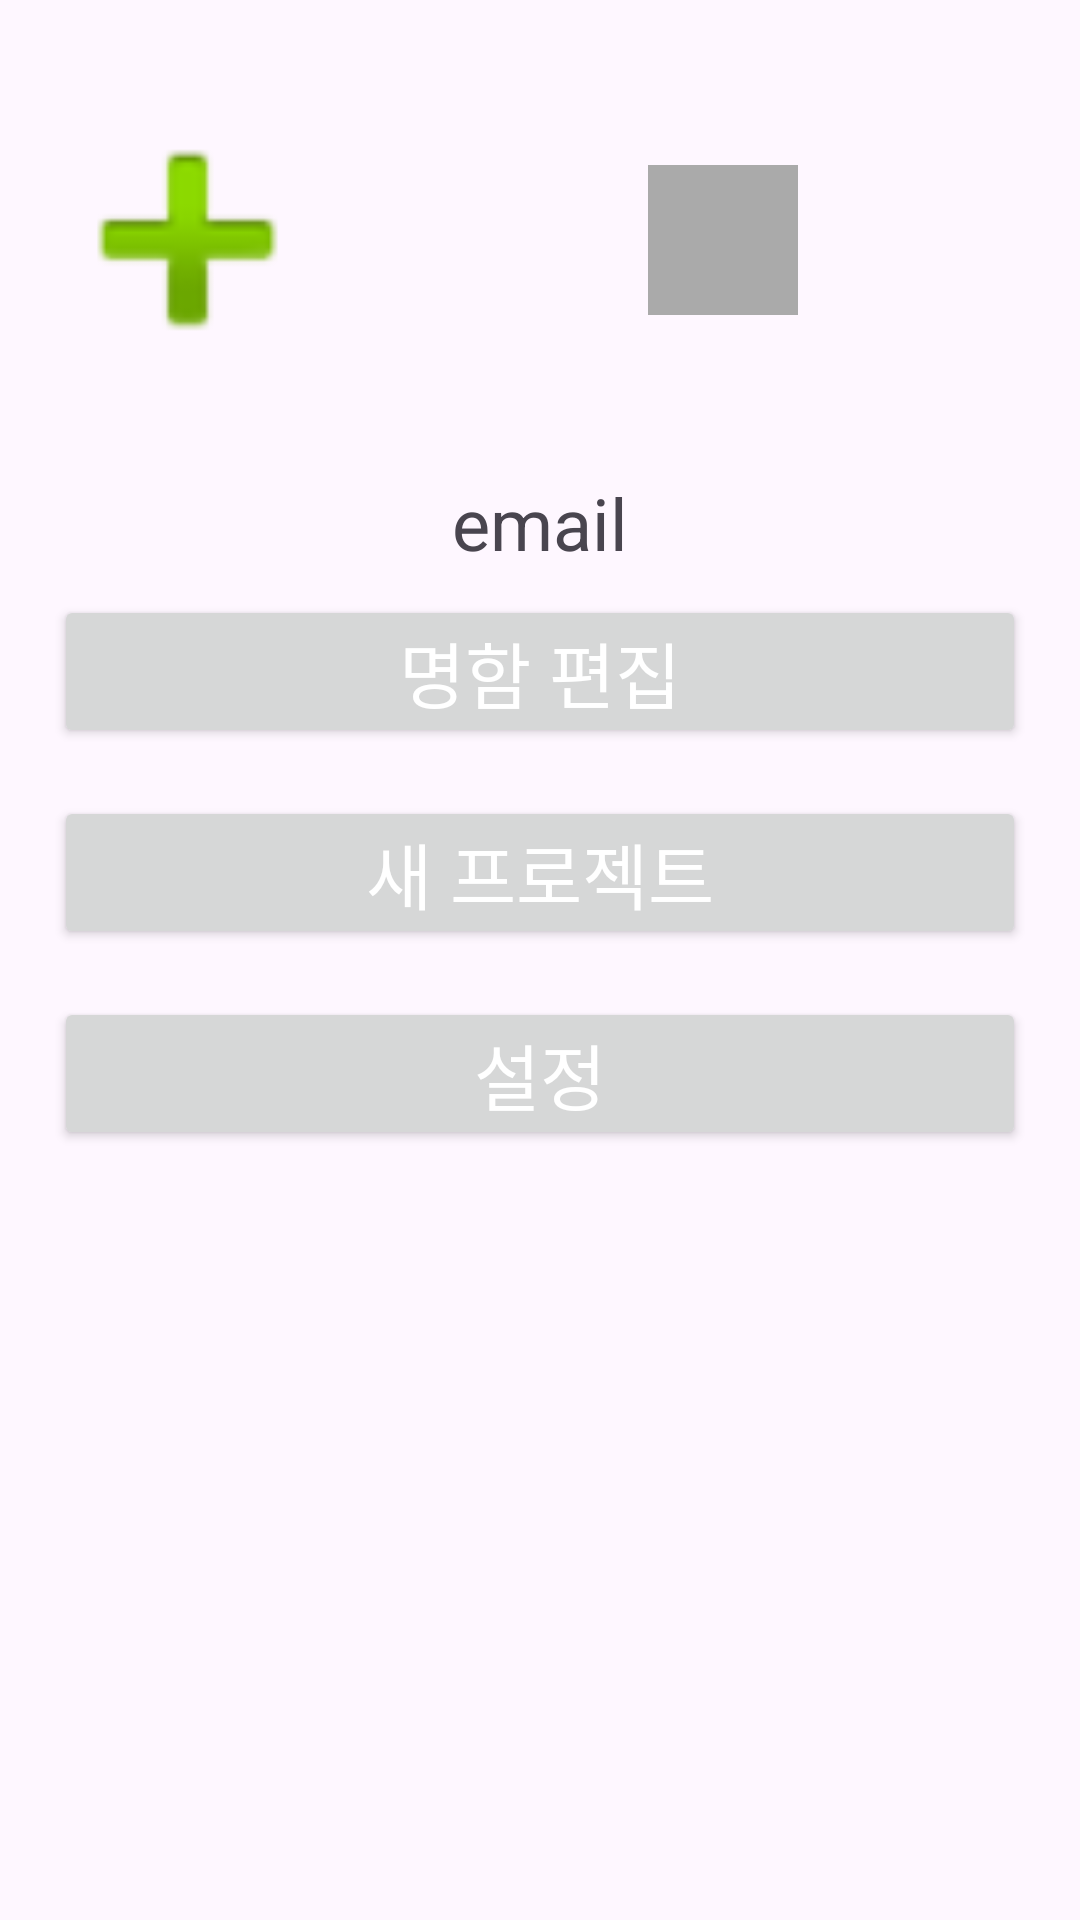

Locate icon controls on the screen. Image size 1080px x 1920px, boxes as (x1, y1, x2, y2).
add: (98, 150, 277, 329)
